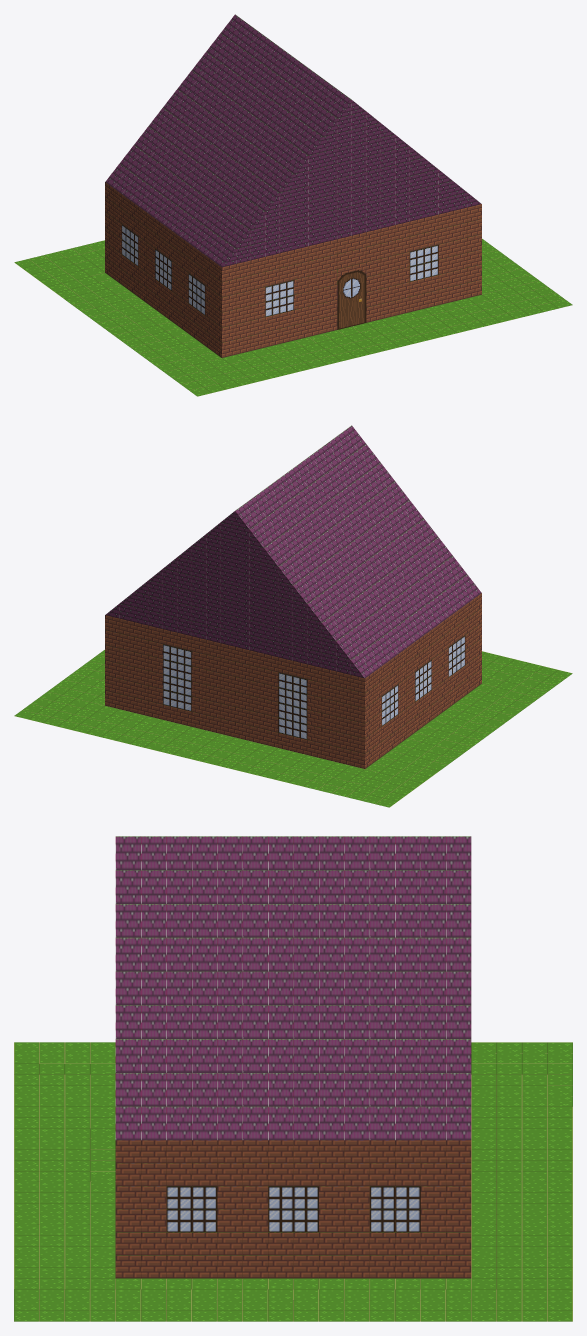
File: Rendering Test Building.obj
3 renders of one model, top to bottom at view 1: azimuth 30°, elevation 25°; view 2: azimuth 150°, elevation 25°; view 3: azimuth 270°, elevation 25°, orthographic. The views are drawn at different scales.
Visible parts, largest first — view 1: Default; view 2: Default; view 3: Default.
Boxes of the visible parts, x1,y1,x2,y2 form: Default: [14, 14, 572, 396]; Default: [14, 425, 572, 807]; Default: [14, 836, 572, 1321].
Bounding box in the file's own units: 26 × 15 × 22.
Materials: 1 (1 with a texture image).
